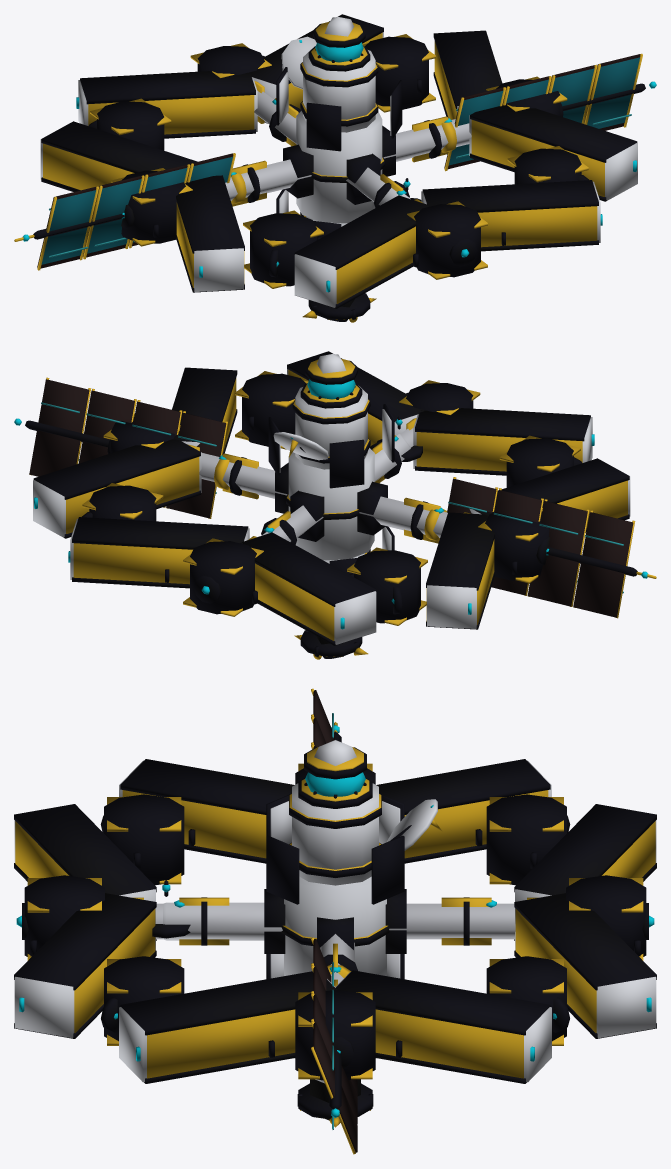
File: orbital_station.glb
3 renders of one model, top to bottom at view 1: azimuth 30°, elevation 25°; view 2: azimuth 150°, elevation 25°; view 3: azimuth 270°, elevation 25°, orthographic. The views are drawn at different scales.
Visible parts, largest first — view 1: orbital_station; view 2: orbital_station; view 3: orbital_station.
Boxes of the visible parts, <box> form: orbital_station: <box>14,14,656,322</box>; orbital_station: <box>14,351,656,659</box>; orbital_station: <box>14,688,656,1154</box>.
Size of the model in its own units: 27.44 by 12.45 by 19.
